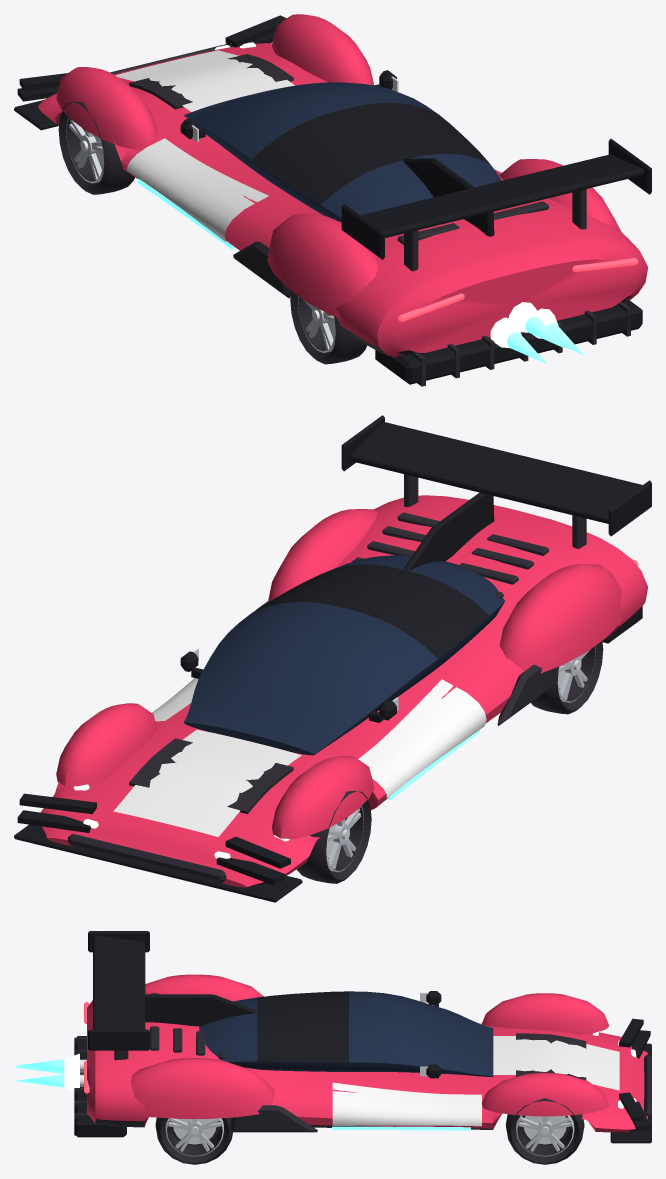
Rendered from car_hyper.glb.
3 renders of one model, top to bottom at view 1: azimuth 30°, elevation 25°; view 2: azimuth 150°, elevation 25°; view 3: azimuth 270°, elevation 25°, orthographic. The views are drawn at different scales.
Parts seen in each view (by area): view 1: Body, Vinyl, Spoiler, WheelFL, WheelRL, NitroFlame; view 2: Body, Vinyl, Spoiler, WheelFL, WheelRL; view 3: Body, Vinyl, Spoiler, WheelFR, WheelRR, NitroFlame.
Boxes of the visible parts, x1,y1,x2,y2 form: Body: (14, 14, 648, 386); Vinyl: (115, 50, 294, 242); Spoiler: (341, 138, 651, 271); WheelFL: (58, 101, 134, 194); WheelRL: (290, 291, 367, 364); NitroFlame: (490, 302, 584, 363); Body: (14, 492, 647, 902); Vinyl: (113, 678, 486, 836); Spoiler: (341, 415, 651, 548); WheelFL: (296, 790, 371, 883); WheelRL: (531, 641, 603, 714); Body: (74, 974, 651, 1143); Vinyl: (332, 1023, 619, 1126); Spoiler: (88, 931, 149, 1060); WheelFR: (505, 1098, 584, 1164); WheelRR: (155, 1117, 232, 1164); NitroFlame: (14, 1053, 79, 1090).
Bounding box in the file's own units: 2.27 × 1.32 × 5.56.
